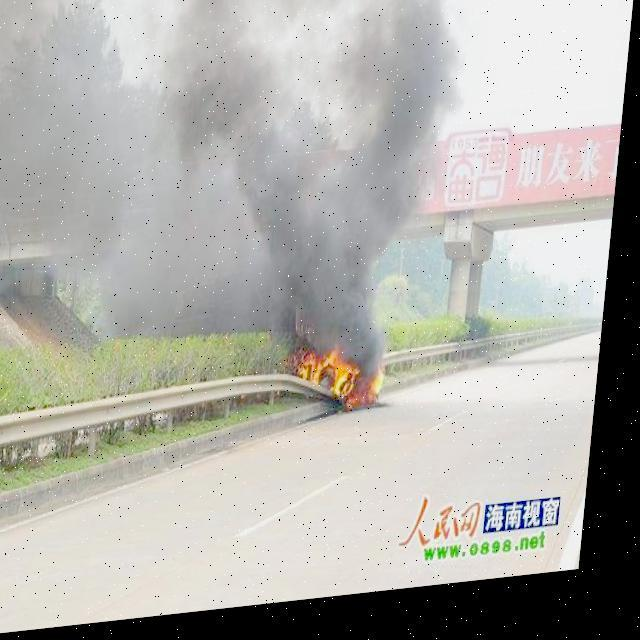Fire: (294, 328, 396, 429)
